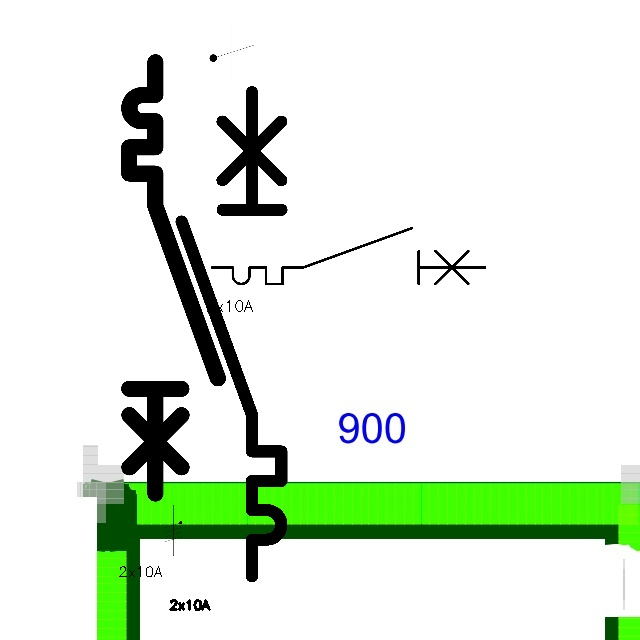interruptor_termomagnetico: (169, 79, 294, 588), (118, 51, 229, 505), (205, 221, 491, 291)
